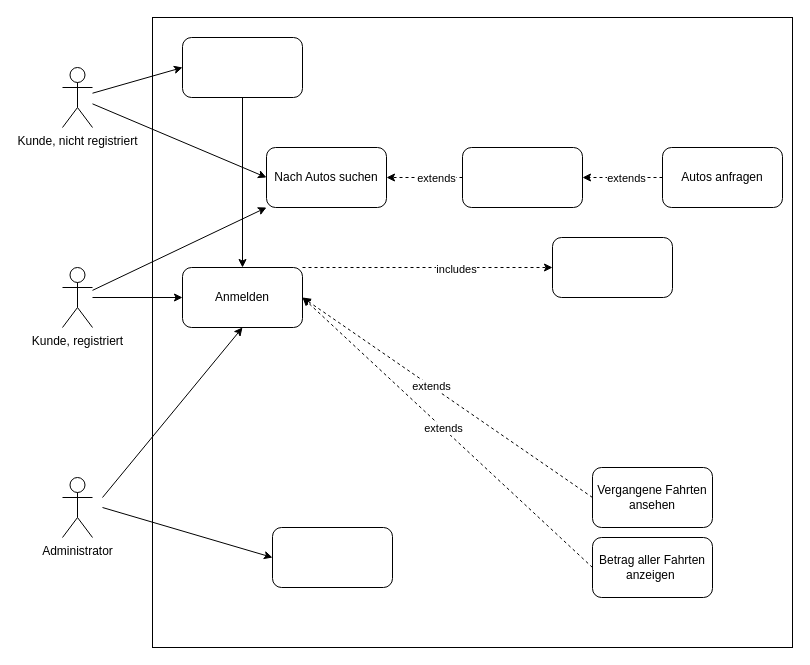
Image size: 810x665. Some labels were removed from this diagram. Each missing label, with the centre of its shape:
"Auto buchen" goes at point (612, 267).
"Auto Liste anzeigen" goes at point (522, 177).
"Autos hinzufügen" goes at point (332, 557).
"Registrieren" goes at point (242, 67).
